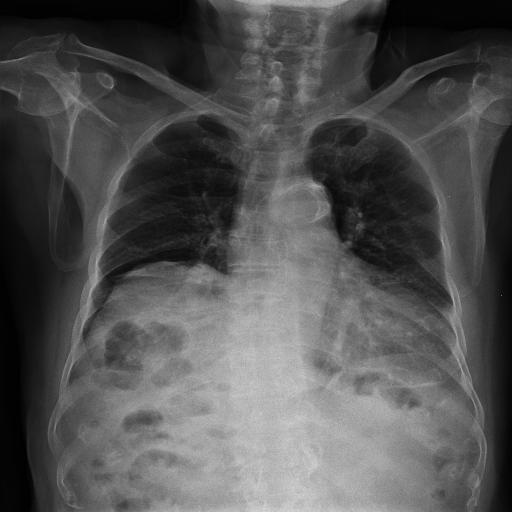Aortic enlargement: (246, 156, 304, 202)
Calcification: (250, 157, 304, 201)
Cardiomegaly: (107, 236, 336, 324)
Other lesion: (0, 214, 158, 314)
